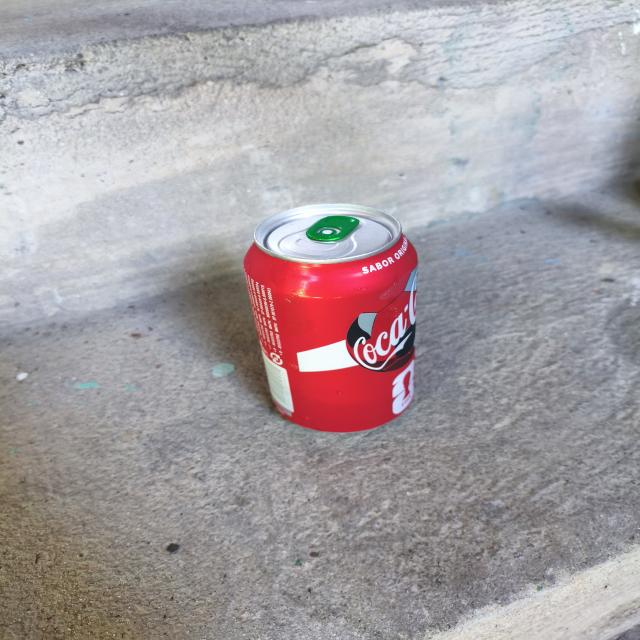Coca Cola: (244, 204, 418, 430)
